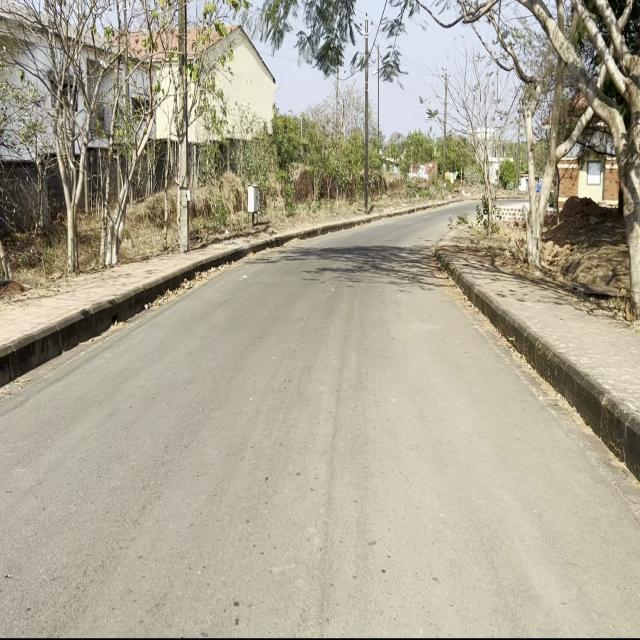Road: (3, 217, 636, 632)
